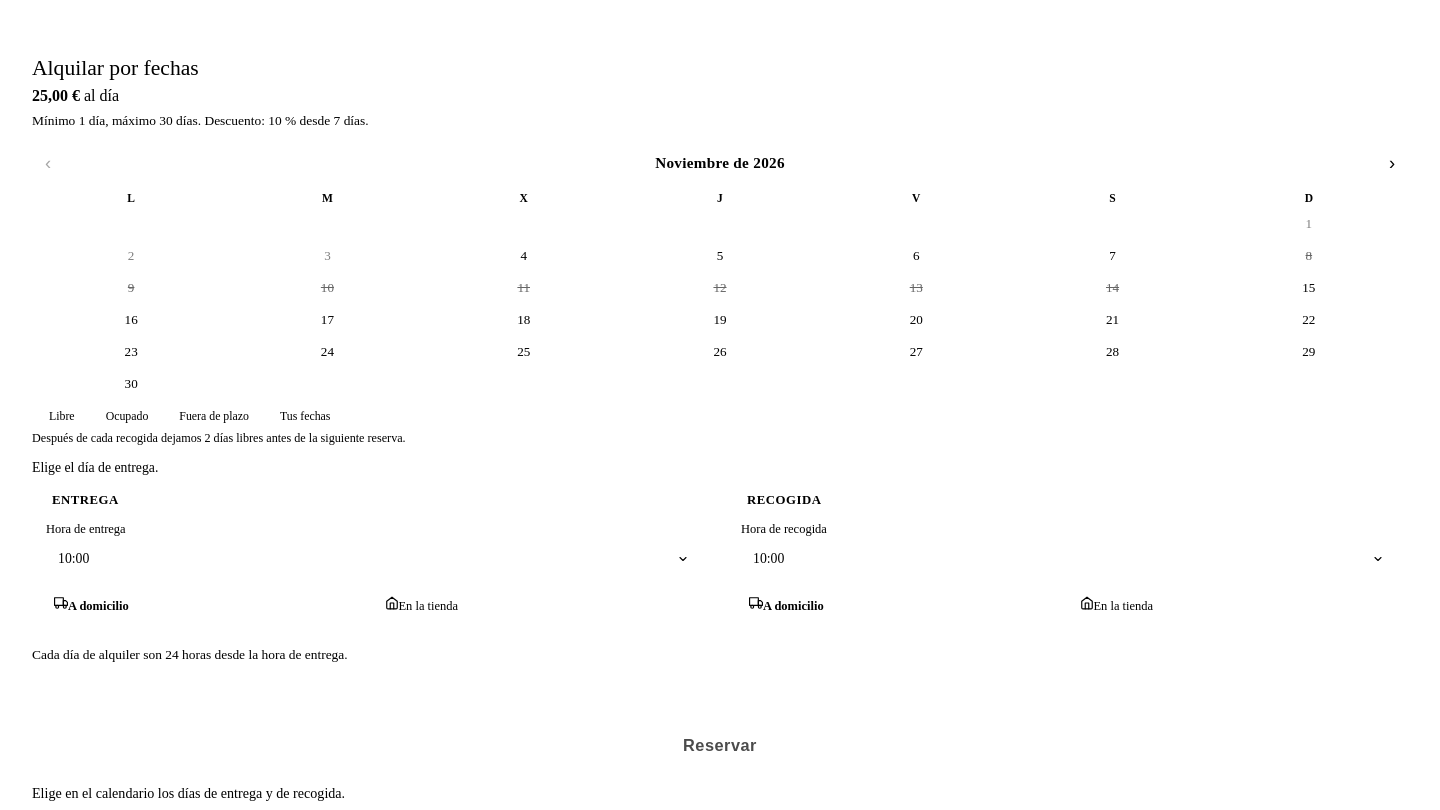
PanelReserva — reservar › con precio, "Reservar" abre el paso de confirmación; al cerrarlo, el foco vuelve al botón
This screenshot has width=1440, height=810.
Click the button named "miércoles, 4 de noviembre de 2026": (524, 256) [427,241,621,271]
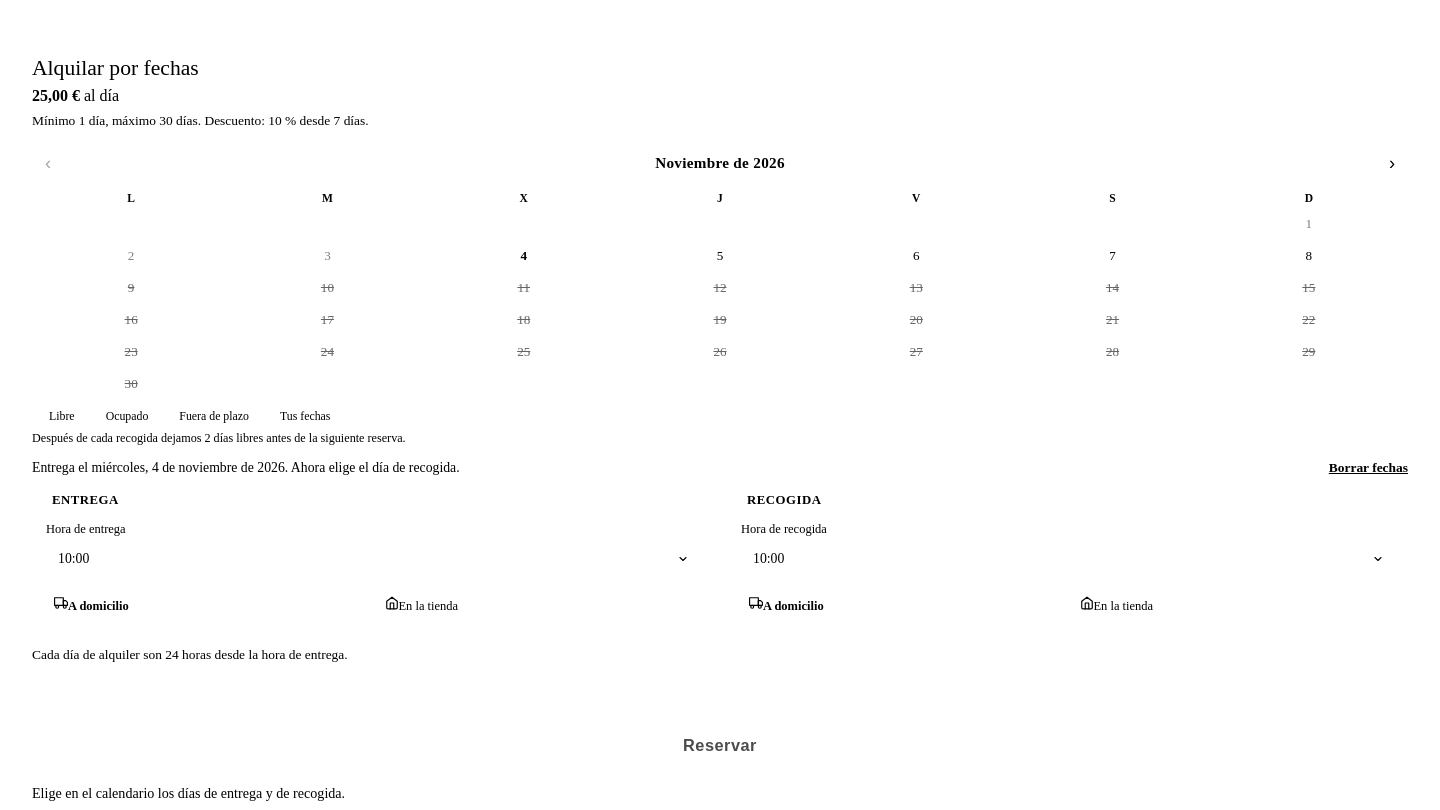
Click the button named "sábado, 7 de noviembre de 2026": (1113, 256) [1015,241,1210,271]
(page scrolled)
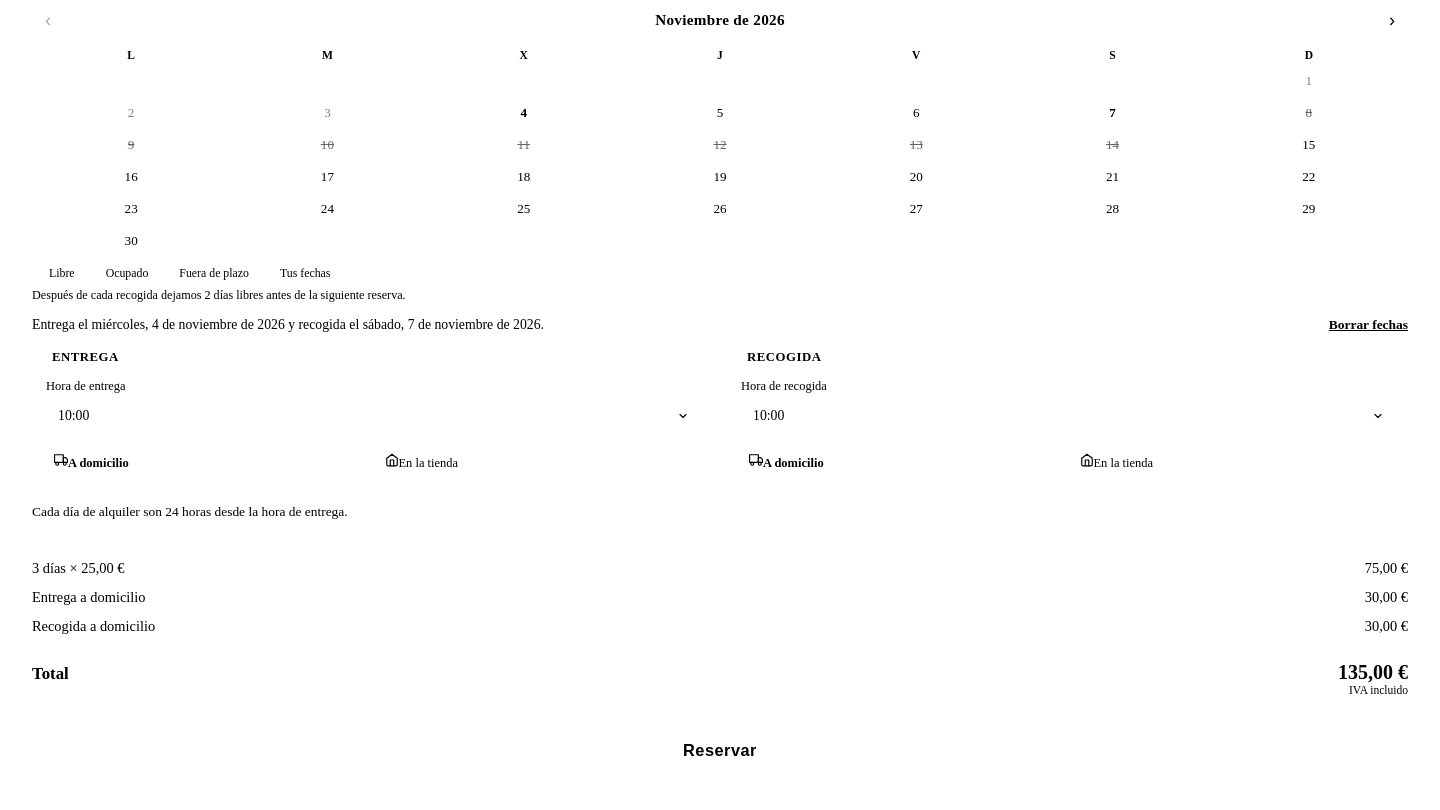
Result: the button "Reservar" is enabled
Click the button "Reservar": (720, 750) [32,722,1408,778]
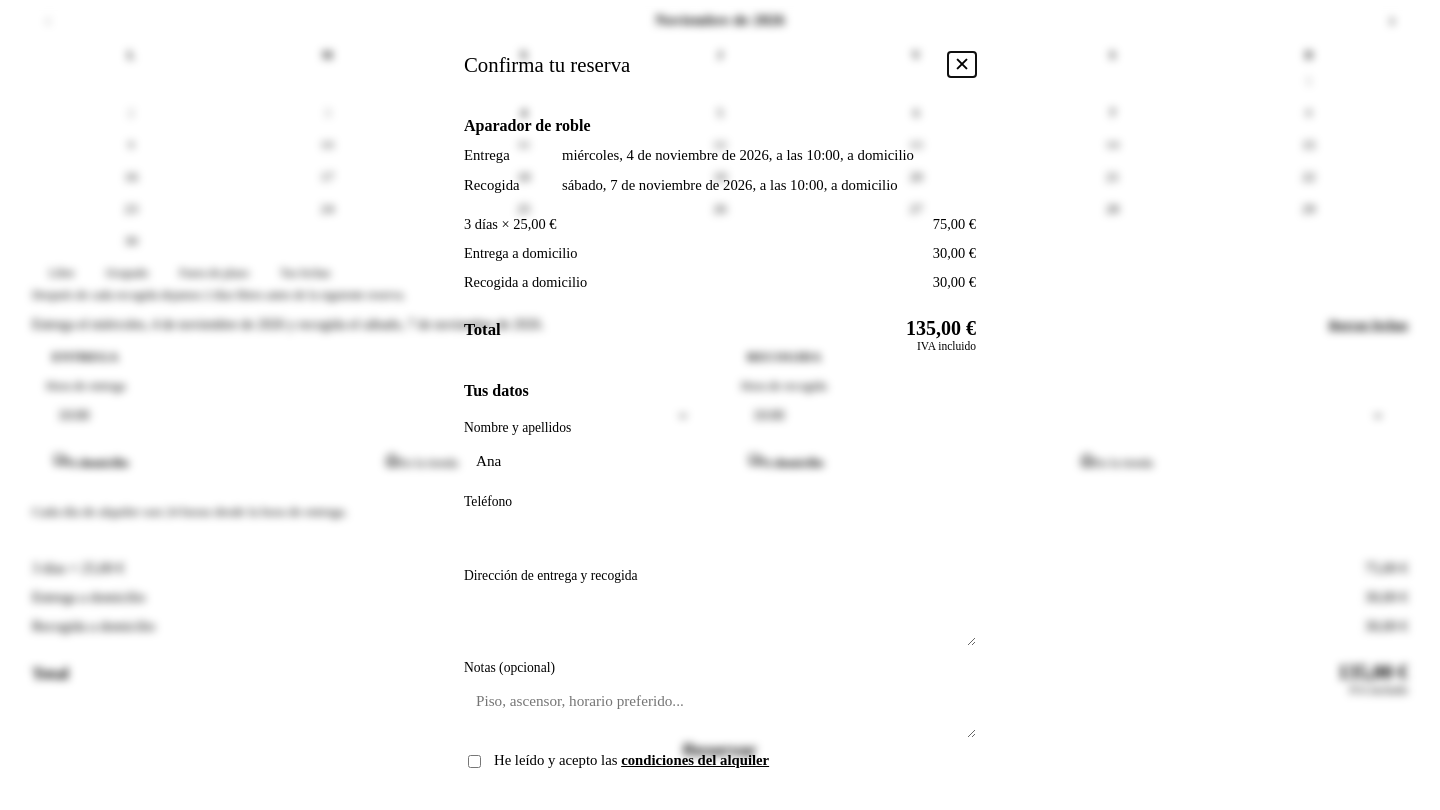
Result: the field labelled "Nombre y apellidos" holds "Ana" at [464,442,976,480]
Click the button named "Cerrar": (962, 65) [948,52,976,77]
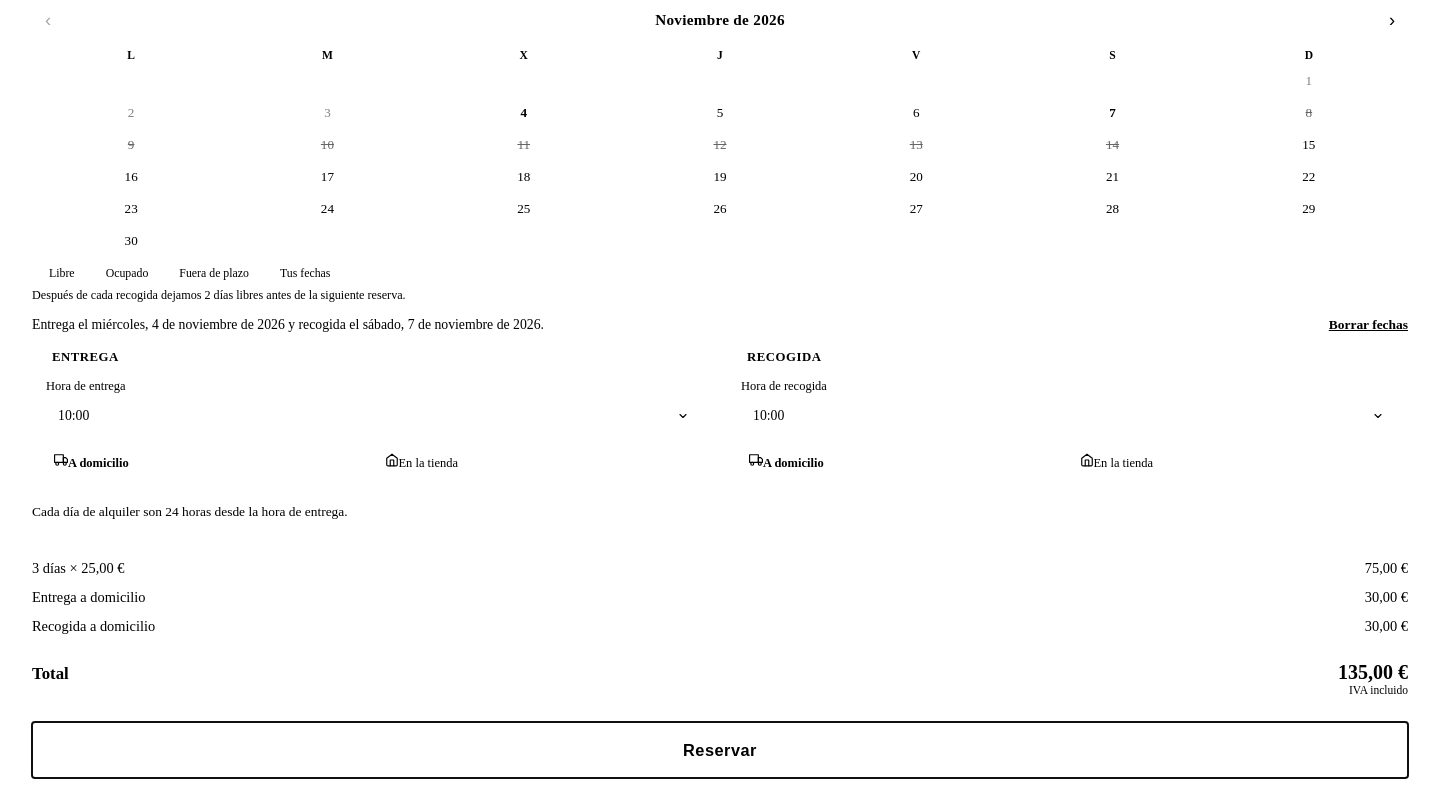
Result: the dialog is gone
